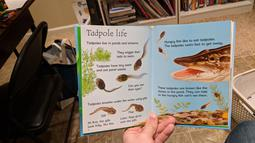text block: (154, 82, 209, 101), (160, 36, 223, 48), (84, 26, 130, 40), (93, 61, 134, 74), (84, 37, 142, 46), (86, 97, 150, 105), (111, 46, 142, 61), (86, 117, 115, 130), (118, 112, 145, 124), (125, 82, 146, 93)
